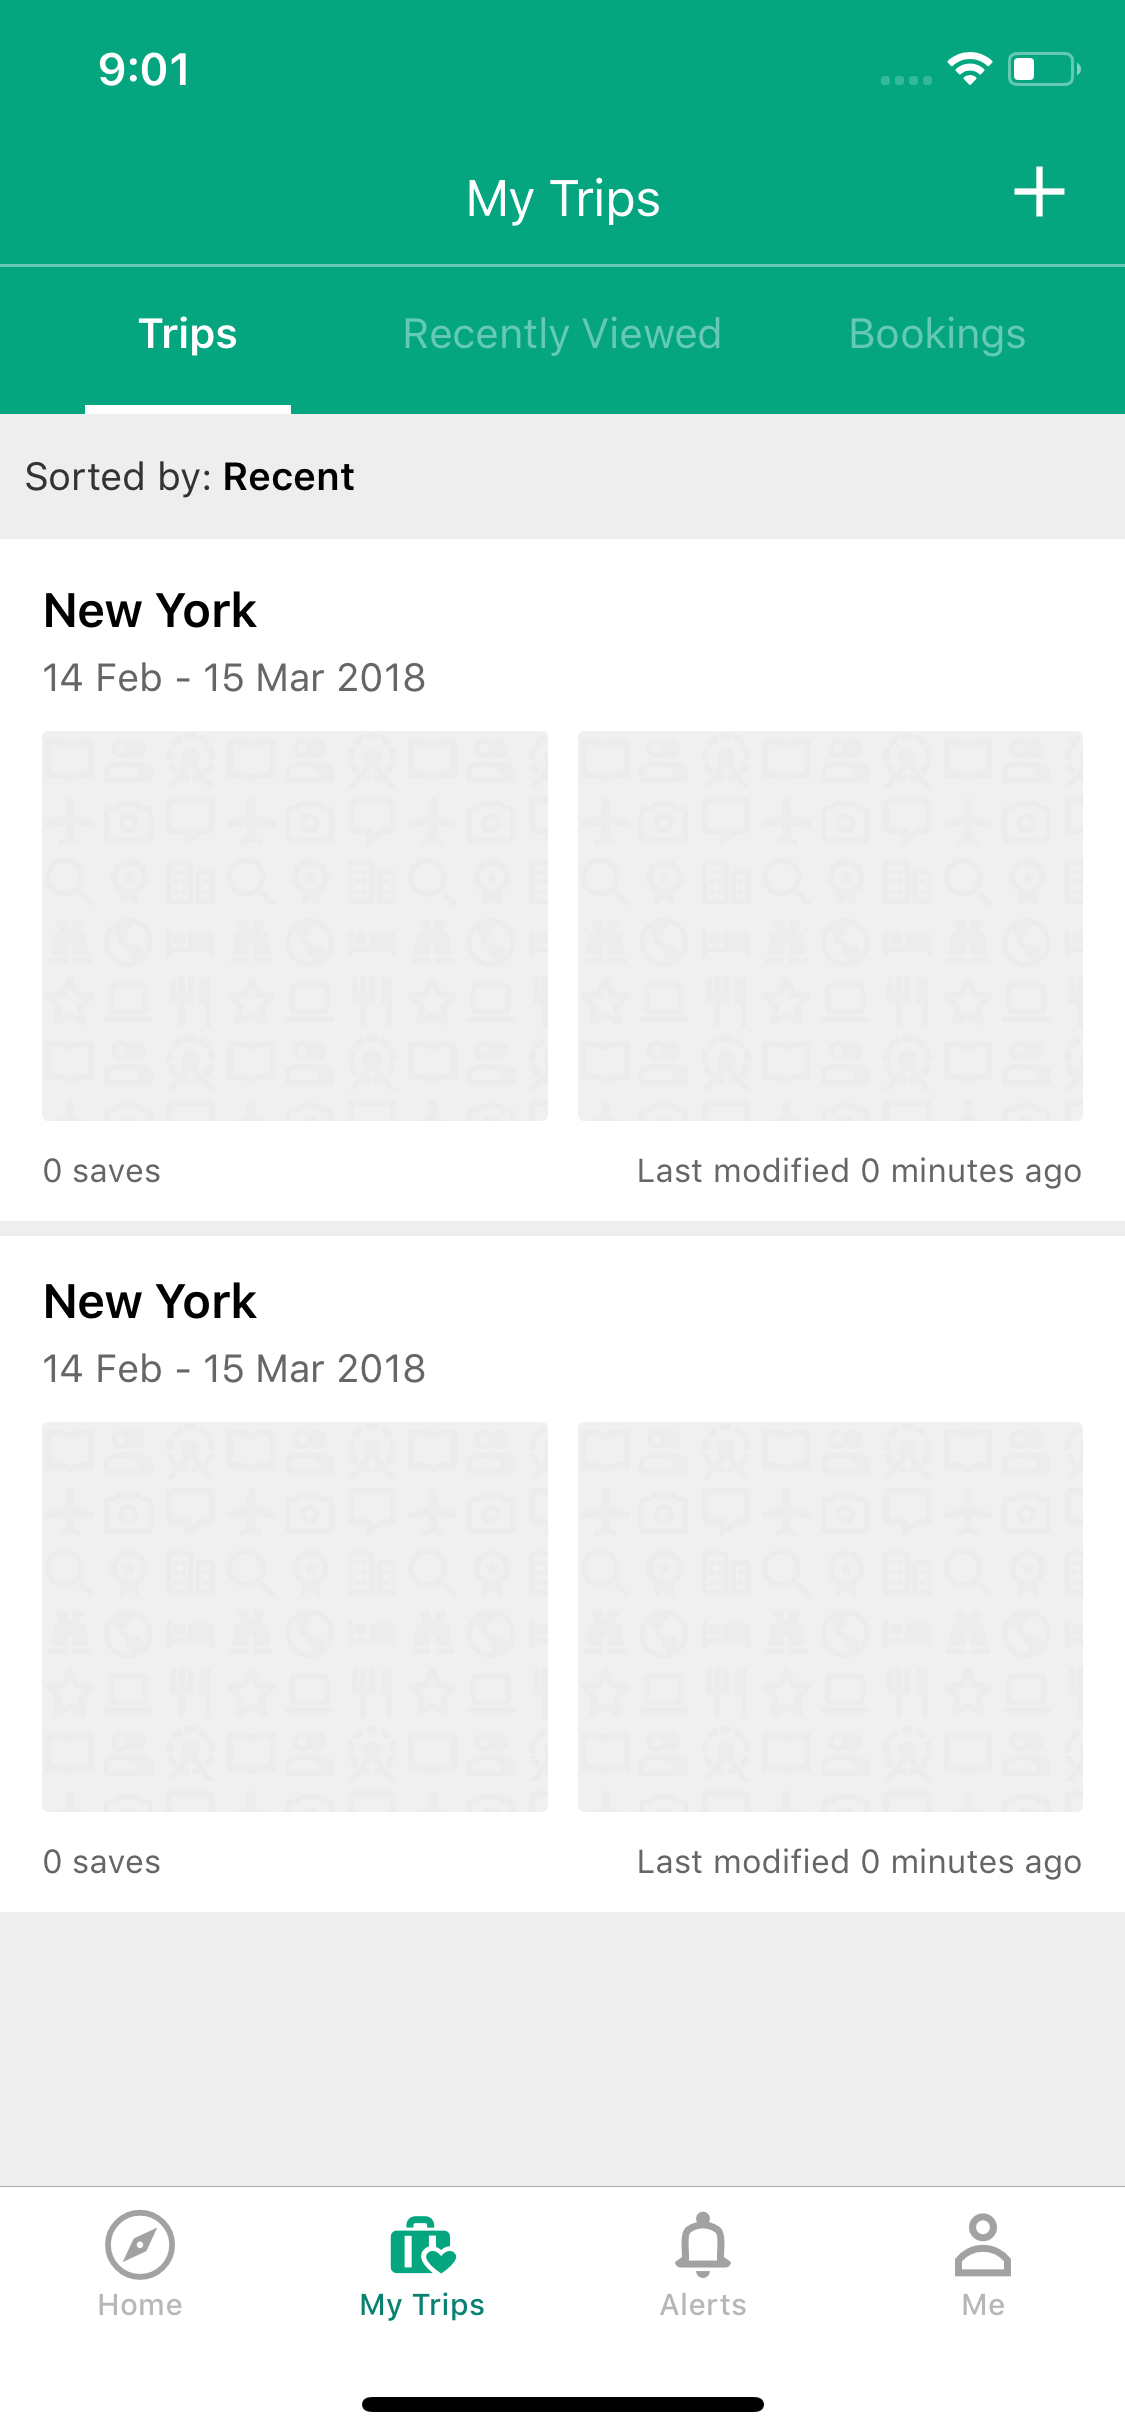Buttons: (980, 130, 1086, 238)
